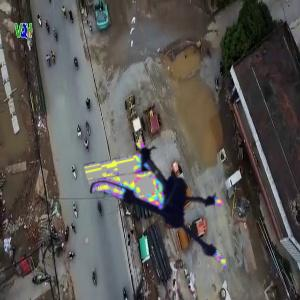drone: (97, 136, 248, 287)
